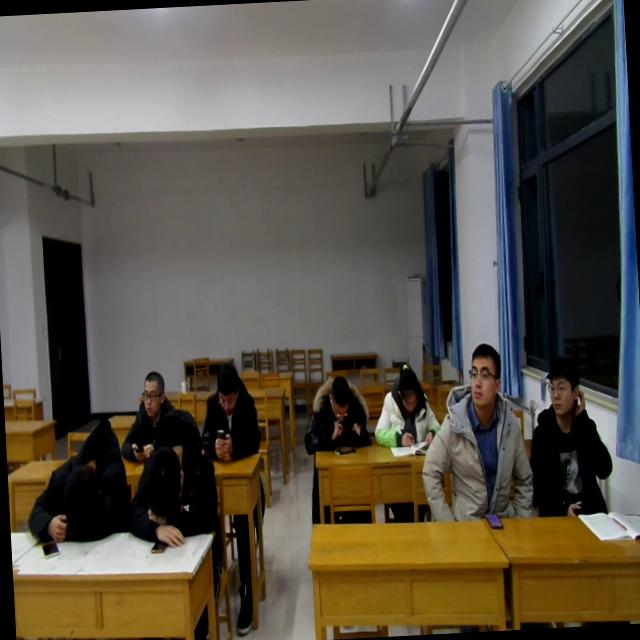bow: (122, 418, 224, 554), (23, 429, 135, 549)
down: (212, 357, 242, 413), (392, 356, 422, 412), (326, 370, 352, 420)
lookup: (464, 334, 506, 408), (544, 352, 586, 424), (138, 365, 166, 418)
sit: (414, 339, 534, 520), (528, 350, 616, 513), (298, 371, 371, 458), (120, 356, 182, 458), (371, 360, 440, 450), (204, 357, 262, 463)
